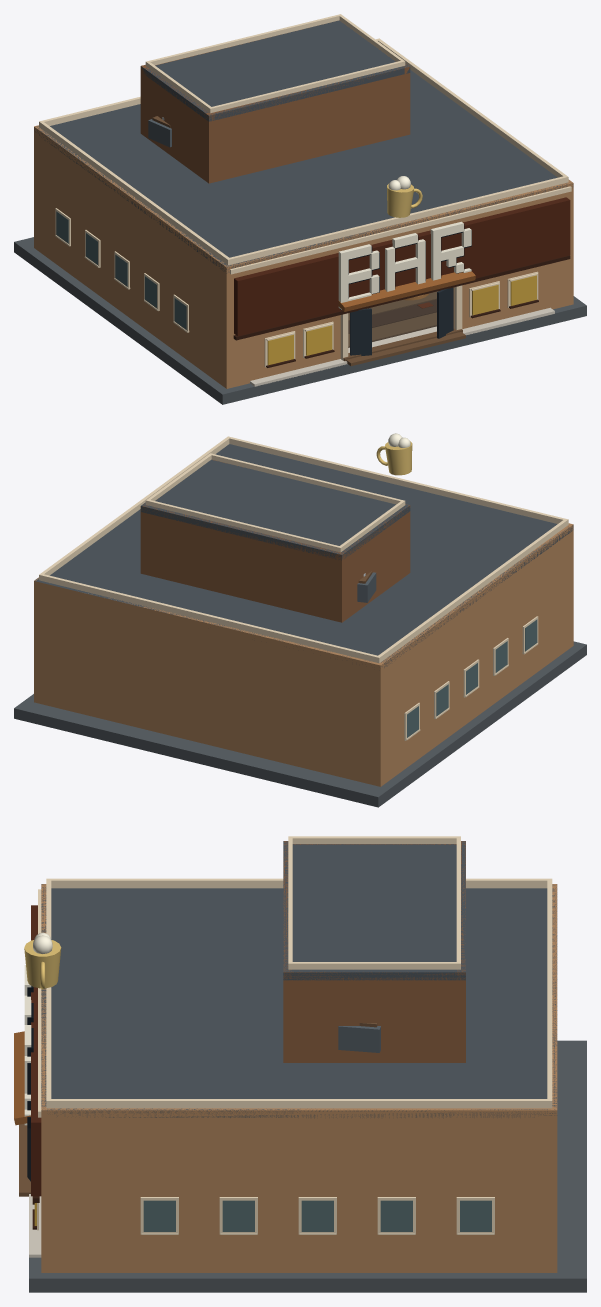
Rendered from bar-building.glb.
The picture shows the model from 3 angles, top to bottom: view 1: azimuth 30°, elevation 25°; view 2: azimuth 150°, elevation 25°; view 3: azimuth 270°, elevation 25°; orthographic projection. The views are drawn at different scales.
Visible parts, largest first — view 1: bar_cutaway_roof, bar_exterior_detail, bar_hull_wall, bar_cutaway_upper, bar_foundation, bar_interior; view 2: bar_hull_wall, bar_cutaway_roof, bar_cutaway_upper, bar_foundation, bar_exterior_detail; view 3: bar_cutaway_roof, bar_hull_wall, bar_foundation, bar_cutaway_upper, bar_exterior_detail.
Part boxes in pixels (bbox=[...]): bar_cutaway_roof: bbox=[34, 14, 573, 273]; bar_exterior_detail: bbox=[55, 176, 571, 367]; bar_hull_wall: bbox=[34, 125, 573, 388]; bar_cutaway_upper: bbox=[140, 22, 410, 183]; bar_foundation: bbox=[14, 237, 586, 404]; bar_interior: bbox=[348, 291, 438, 347]; bar_hull_wall: bbox=[34, 523, 573, 786]; bar_cutaway_roof: bbox=[34, 436, 573, 667]; bar_cutaway_upper: bbox=[140, 459, 410, 622]; bar_foundation: bbox=[14, 641, 586, 807]; bar_exterior_detail: bbox=[376, 433, 538, 740]; bar_cutaway_roof: bbox=[41, 836, 557, 1118]; bar_hull_wall: bbox=[41, 884, 557, 1272]; bar_foundation: bbox=[19, 1040, 586, 1292]; bar_cutaway_upper: bbox=[283, 841, 465, 1062]; bar_exterior_detail: bbox=[14, 889, 494, 1234].
Bounding box in the file's own units: 22.8 × 12.22 × 23.21.
